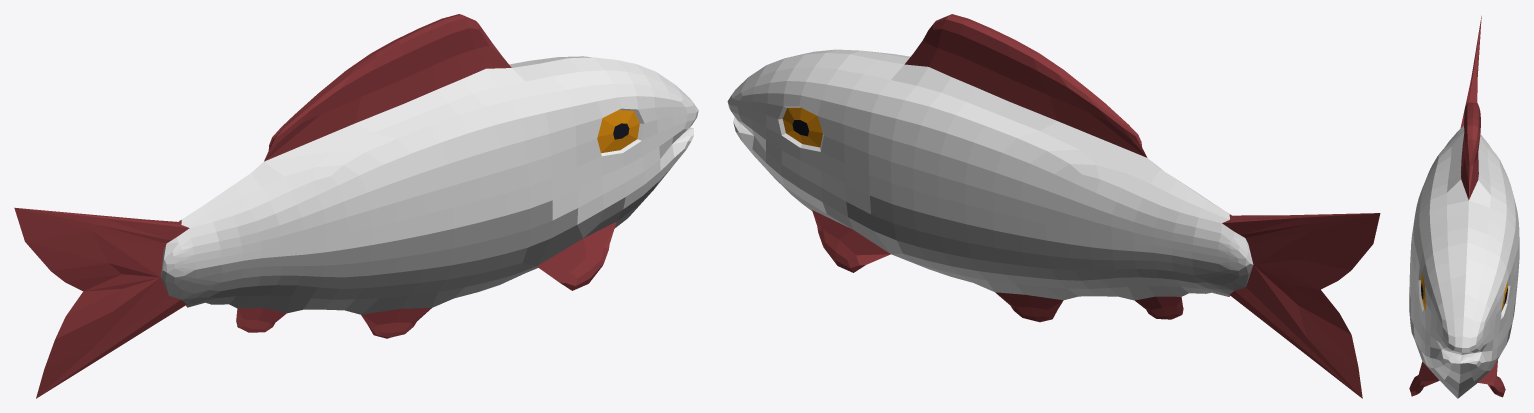
Rendered from fish.fbx.
3 renders of one model, left to right at view 1: azimuth 30°, elevation 25°; view 2: azimuth 150°, elevation 25°; view 3: azimuth 270°, elevation 25°, orthographic. The views are drawn at different scales.
Visible parts, largest first — view 1: fish; view 2: fish; view 3: fish.
Part boxes in pixels (<box>): fish: <box>14,14,698,398</box>; fish: <box>727,14,1380,398</box>; fish: <box>1409,16,1519,398</box>.
Bounding box in the file's own units: 4.57 × 1.93 × 0.7446.
